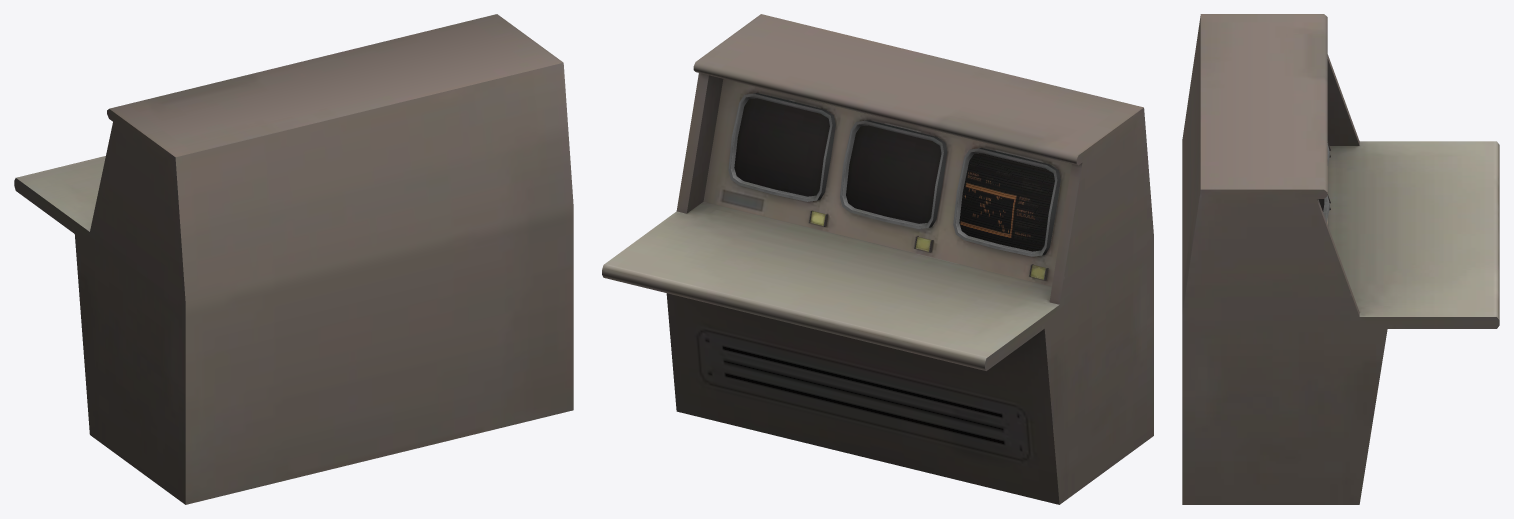
3 views of the same model, side by side, from view 1: azimuth 30°, elevation 25°; view 2: azimuth 150°, elevation 25°; view 3: azimuth 270°, elevation 25° (orthographic). The views are drawn at different scales.
Parts seen in each view (by area): view 1: body0_model0_lod0_mesh0; view 2: body0_model0_lod0_mesh0, body0_model0_lod0_mesh1; view 3: body0_model0_lod0_mesh0.
Part boxes in pixels (x1,y1,x2,y2): body0_model0_lod0_mesh0: (14, 14, 573, 504); body0_model0_lod0_mesh0: (602, 14, 1153, 504); body0_model0_lod0_mesh1: (959, 153, 1054, 251); body0_model0_lod0_mesh0: (1182, 14, 1499, 504).
Size of the model in its own units: 80 by 67.01 by 61.16.
2 materials, 2 textured.
